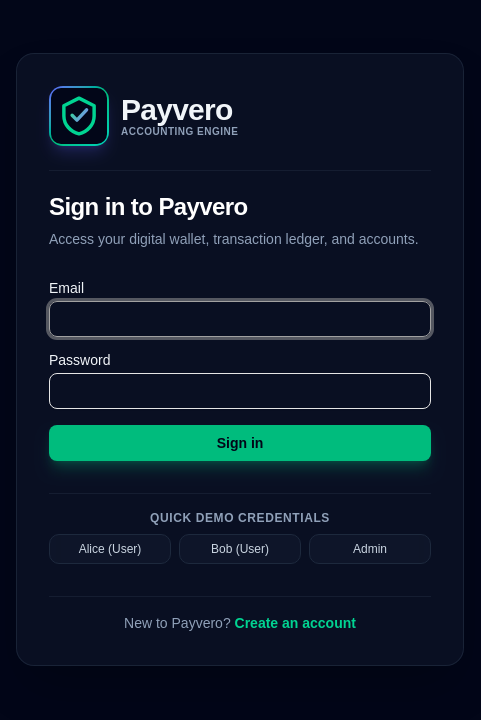
Test: errors that name no field › surfaces REQUEST_IN_PROGRESS as a form-level alert
Step 1. Type "alice@payvero.dev" into the field labelled "Email" → (240, 318), box 49,300 -> 431,336
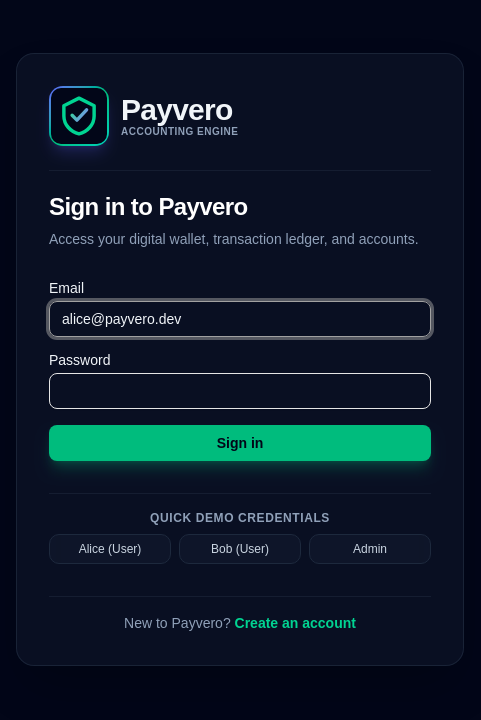
Step 2. Type "demo-password-123" into the password field labelled "Password" → (240, 390), box 49,372 -> 431,408
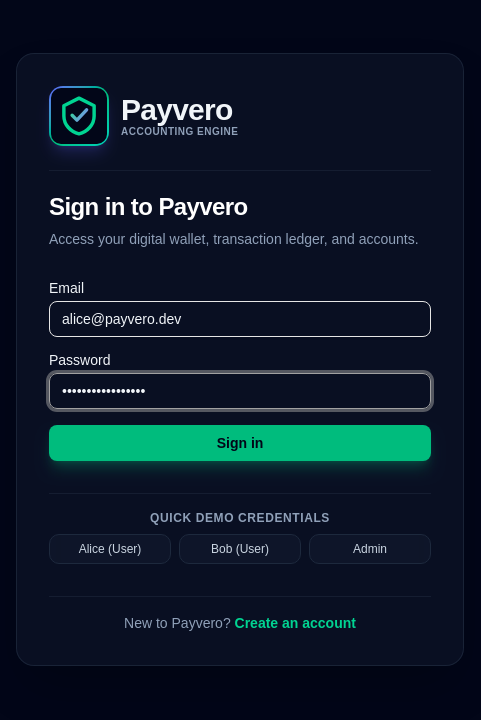
Step 3. Click the button "Sign in" → (240, 442), box 49,424 -> 431,460
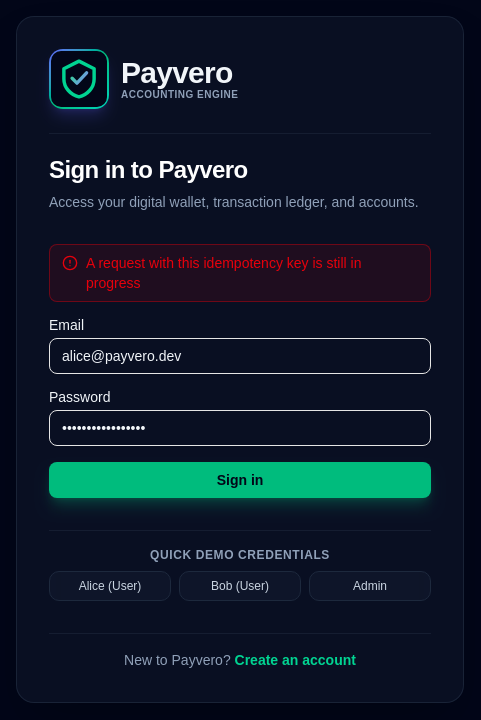
Expected: the message reads "A request with this idempotency key is still in progress", 86,254 -> 362,290
